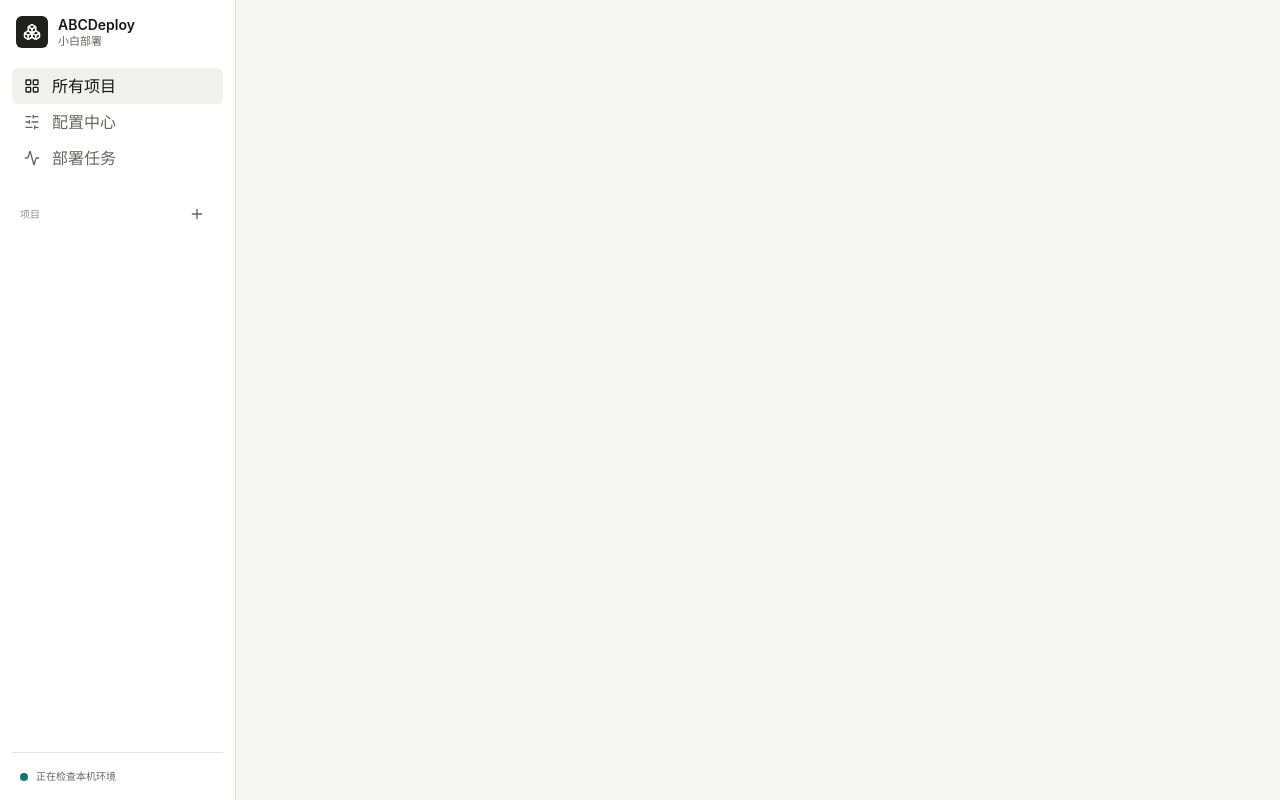
Scenario: AppShell multi-project workspace › keeps the task center useful when no deployment needs attention
The width and height of the screenshot is (1280, 800).
What coordinates should you click on to do the following:
click the button "部署任务"
I would click on:
 (118, 158)
Its box is 12,140 -> 223,176.
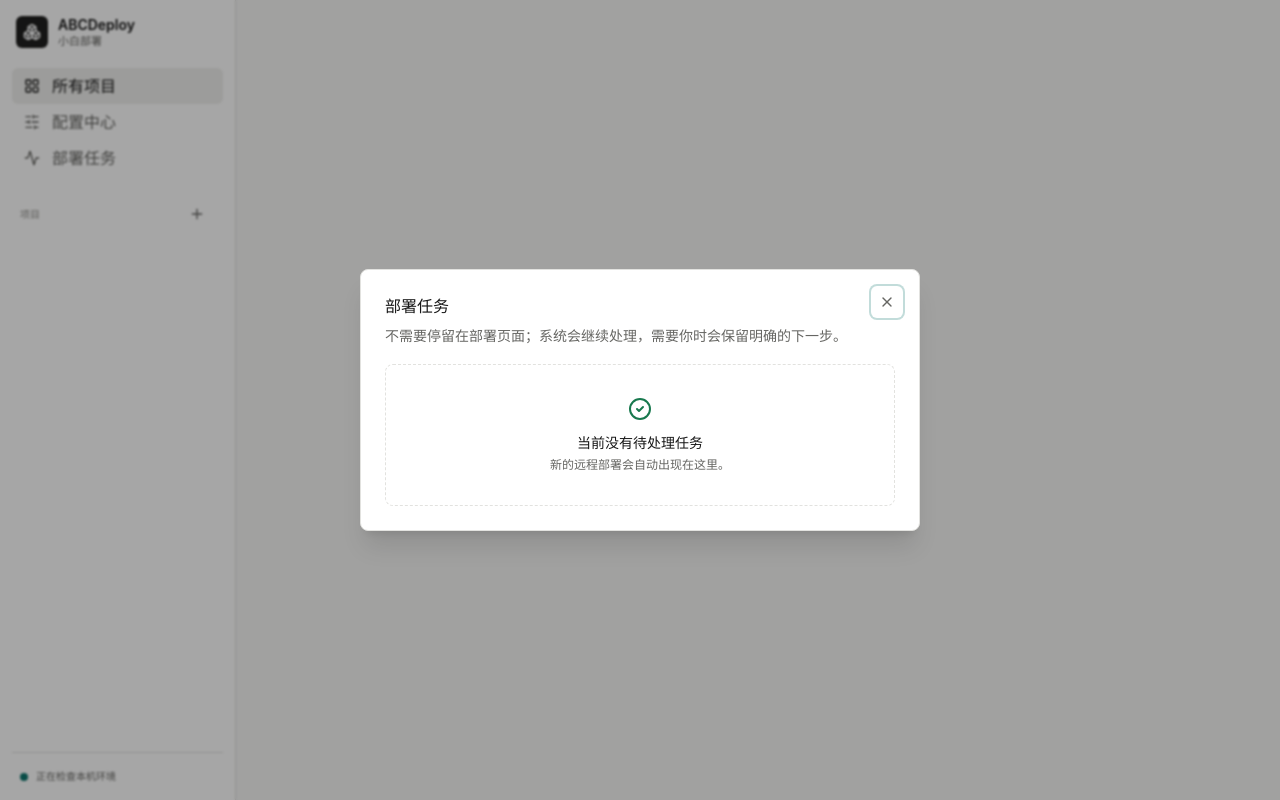
Check: the text "当前没有待处理任务" is shown, box 577,434 -> 703,451
